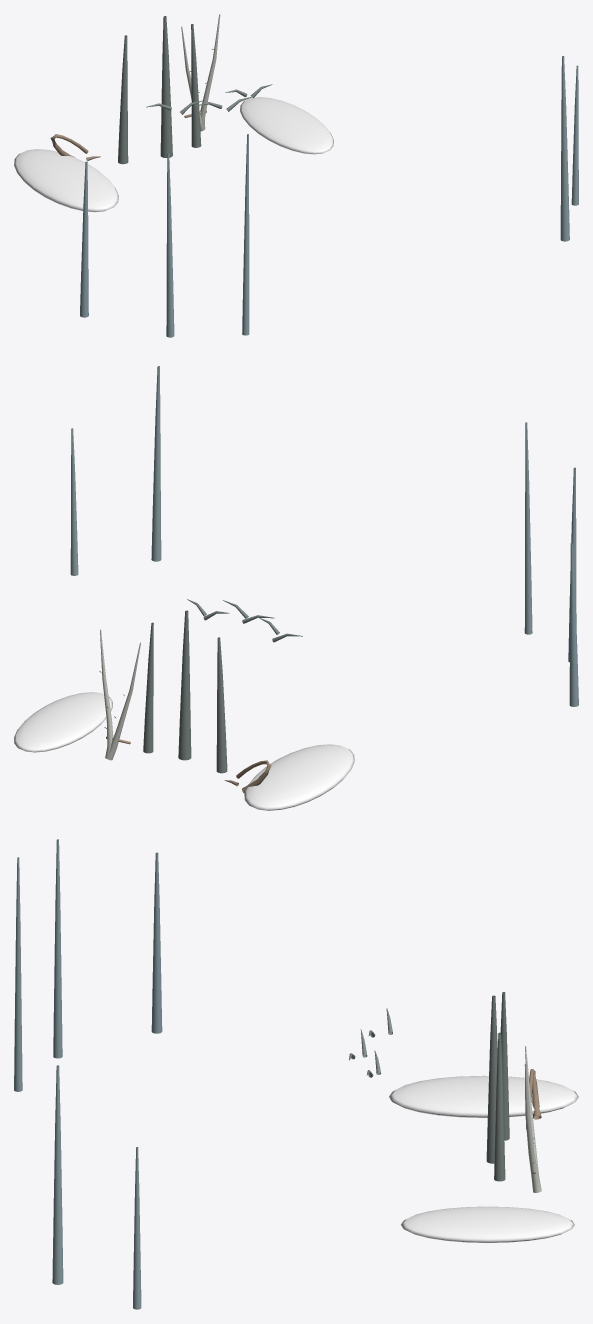
File: pforest-tableau-v1.glb
3 views of the same model, one above another, from view 1: azimuth 30°, elevation 25°; view 2: azimuth 150°, elevation 25°; view 3: azimuth 270°, elevation 25° (orthographic). The views are drawn at different scales.
Visible parts, largest first — view 1: PForest_Snowbank_left, PForest_Snowbank_right, PForest_DistantTrunk_4, PForest_CentralTrunk_middle, PForest_DistantTrunk_3, PForest_DistantTrunk_2, PForest_DistantTrunk_1, PForest_CentralTrunk_left, PForest_CentralTrunk_right, PForest_DistantTrunk_5, PForest_SplitBirch_left_stem; view 2: PForest_Snowbank_left, PForest_Snowbank_right, PForest_DistantTrunk_4, PForest_CentralTrunk_middle, PForest_DistantTrunk_3, PForest_DistantTrunk_1, PForest_CentralTrunk_left, PForest_CentralTrunk_right, PForest_DistantTrunk_5, PForest_DistantTrunk_2, PForest_SplitBirch_left_stem, PForest_SplitBirch_right_stem; view 3: PForest_Snowbank_left, PForest_Snowbank_right, PForest_DistantTrunk_4, PForest_DistantTrunk_2, PForest_DistantTrunk_3, PForest_DistantTrunk_1, PForest_CentralTrunk_middle, PForest_CentralTrunk_right, PForest_DistantTrunk_5, PForest_CentralTrunk_left, PForest_SplitBirch_left_stem.
Part boxes in pixels (<box>): PForest_Snowbank_left: <box>14,149,118,212</box>; PForest_Snowbank_right: <box>240,97,333,154</box>; PForest_DistantTrunk_4: <box>560,56,569,241</box>; PForest_CentralTrunk_middle: <box>160,16,172,157</box>; PForest_DistantTrunk_3: <box>242,134,249,335</box>; PForest_DistantTrunk_2: <box>166,152,174,337</box>; PForest_DistantTrunk_1: <box>80,161,88,317</box>; PForest_CentralTrunk_left: <box>118,35,128,164</box>; PForest_CentralTrunk_right: <box>191,24,201,147</box>; PForest_DistantTrunk_5: <box>571,65,578,205</box>; PForest_SplitBirch_left_stem: <box>200,14,220,130</box>; PForest_Snowbank_left: <box>244,744,354,810</box>; PForest_Snowbank_right: <box>14,692,112,752</box>; PForest_DistantTrunk_4: <box>151,366,161,561</box>; PForest_CentralTrunk_middle: <box>178,610,191,760</box>; PForest_DistantTrunk_3: <box>524,422,532,634</box>; PForest_DistantTrunk_1: <box>569,542,578,706</box>; PForest_CentralTrunk_left: <box>216,637,227,773</box>; PForest_CentralTrunk_right: <box>143,622,153,753</box>; PForest_DistantTrunk_5: <box>70,428,78,575</box>; PForest_DistantTrunk_2: <box>568,467,576,662</box>; PForest_SplitBirch_left_stem: <box>100,629,113,758</box>; PForest_SplitBirch_right_stem: <box>106,642,140,760</box>; PForest_Snowbank_left: <box>389,1075,578,1117</box>; PForest_Snowbank_right: <box>401,1206,574,1242</box>; PForest_DistantTrunk_4: <box>52,1065,63,1284</box>; PForest_DistantTrunk_2: <box>53,839,62,1058</box>; PForest_DistantTrunk_3: <box>14,857,22,1091</box>; PForest_DistantTrunk_1: <box>151,852,162,1033</box>; PForest_CentralTrunk_middle: <box>486,995,497,1163</box>; PForest_CentralTrunk_right: <box>494,1032,505,1181</box>; PForest_DistantTrunk_5: <box>133,1147,141,1309</box>; PForest_CentralTrunk_left: <box>500,992,509,1140</box>; PForest_SplitBirch_left_stem: <box>524,1064,541,1192</box>.
Size of the model in its own units: 33.49 by 13.28 by 28.52.
